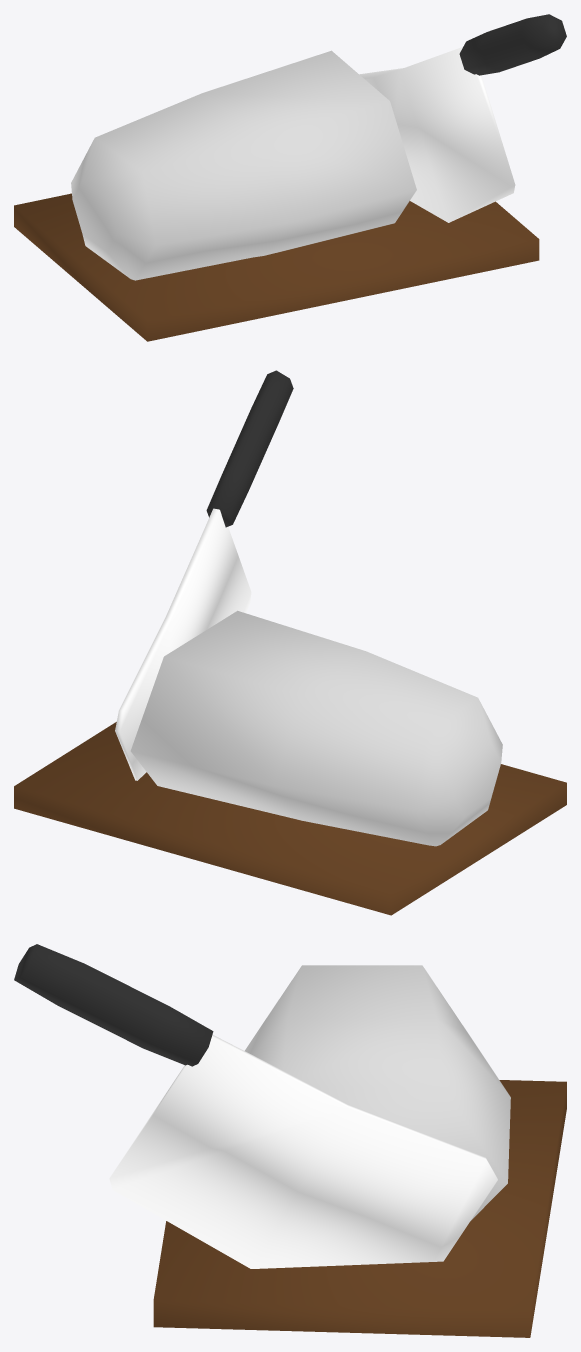
File: MeatTable.glb
The picture shows the model from 3 angles, top to bottom: view 1: azimuth 30°, elevation 25°; view 2: azimuth 150°, elevation 25°; view 3: azimuth 270°, elevation 25°; orthographic projection. The views are drawn at different scales.
Parts seen in each view (by area): view 1: MeatTable, MeatCleaver; view 2: MeatTable, MeatCleaver; view 3: MeatTable, MeatCleaver.
Boxes of the visible parts, x1,y1,x2,y2 form: MeatTable: (14,50,539,341); MeatCleaver: (359,14,566,222); MeatTable: (14,610,566,915); MeatCleaver: (115,370,293,780); MeatTable: (153,965,566,1337); MeatCleaver: (14,944,497,1268).
Bounding box in the file's own units: 0.6017 × 0.4656 × 0.5853.
